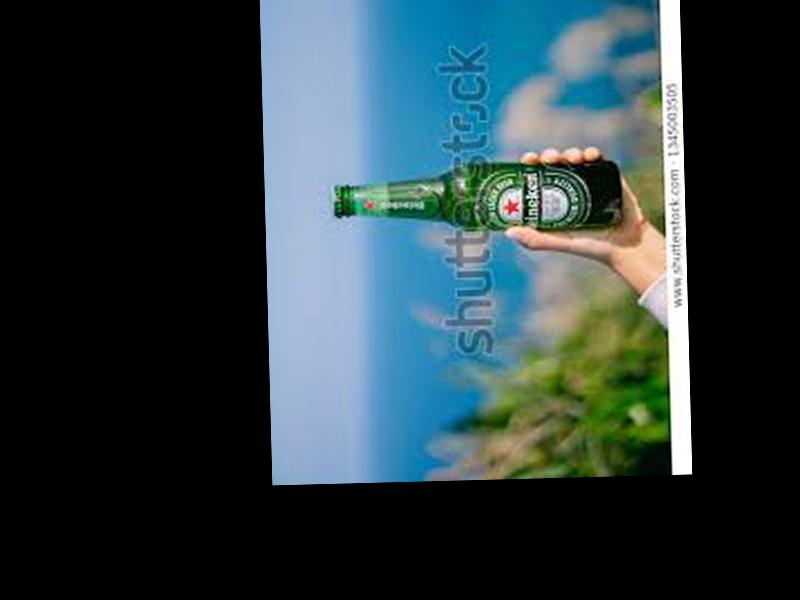Beer: (331, 160, 623, 236)
